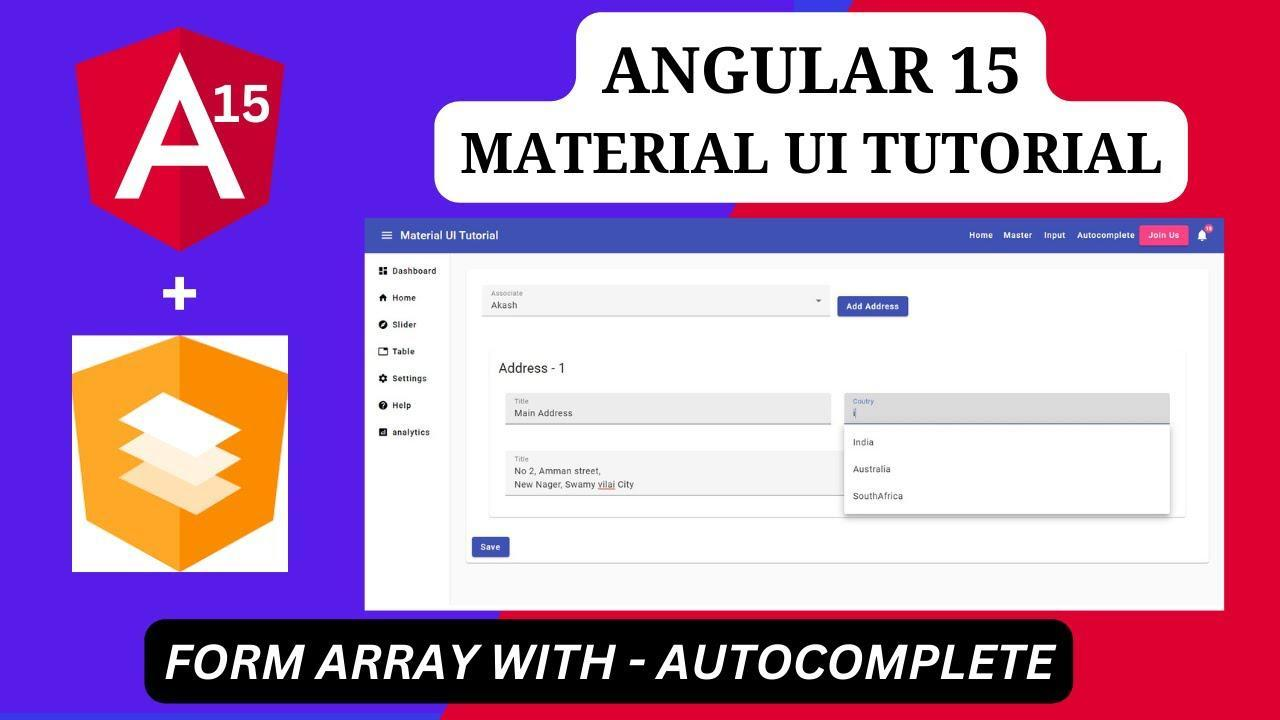button: (838, 294, 911, 321), (474, 536, 519, 563), (1140, 227, 1190, 246)
dropdown: (483, 283, 833, 314)
icon: (1195, 225, 1216, 246), (377, 423, 391, 442), (380, 229, 397, 244), (377, 346, 391, 364), (377, 398, 391, 415), (378, 316, 391, 333), (378, 266, 391, 282), (378, 371, 390, 387), (380, 293, 391, 307)
input: (507, 446, 842, 498), (504, 394, 833, 428), (844, 393, 1171, 424)
